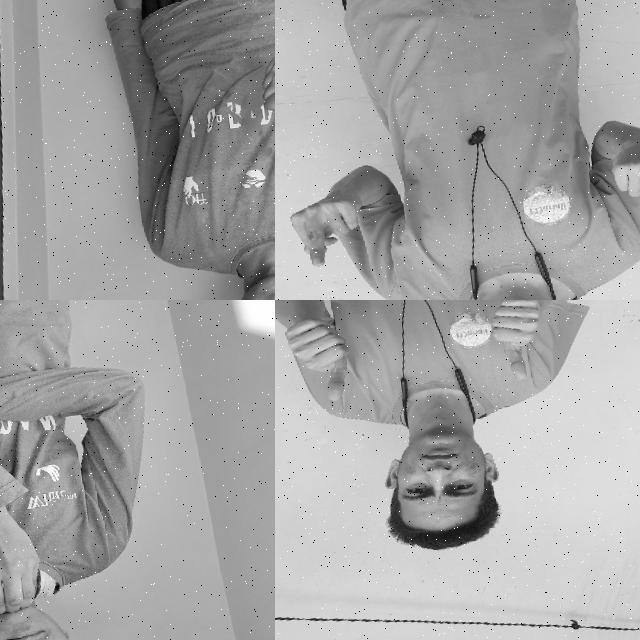Chin Flick: (0, 490, 113, 640)
Middle Finger: (281, 174, 378, 276), (598, 124, 640, 236)
Thumbs Up: (275, 306, 361, 407), (474, 300, 556, 390), (250, 40, 275, 157)
